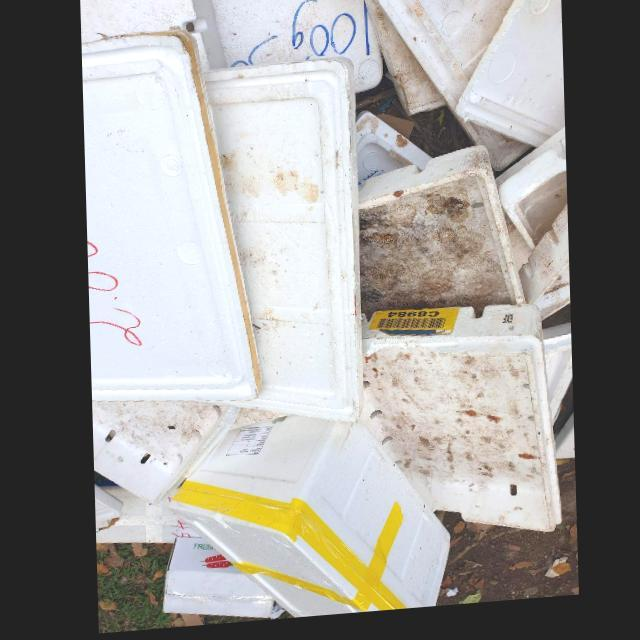styrofoam: (81, 30, 260, 405), (165, 419, 448, 622), (205, 64, 361, 428), (358, 311, 559, 541), (357, 152, 524, 326), (454, 0, 564, 156), (89, 402, 226, 506), (518, 213, 568, 329)
